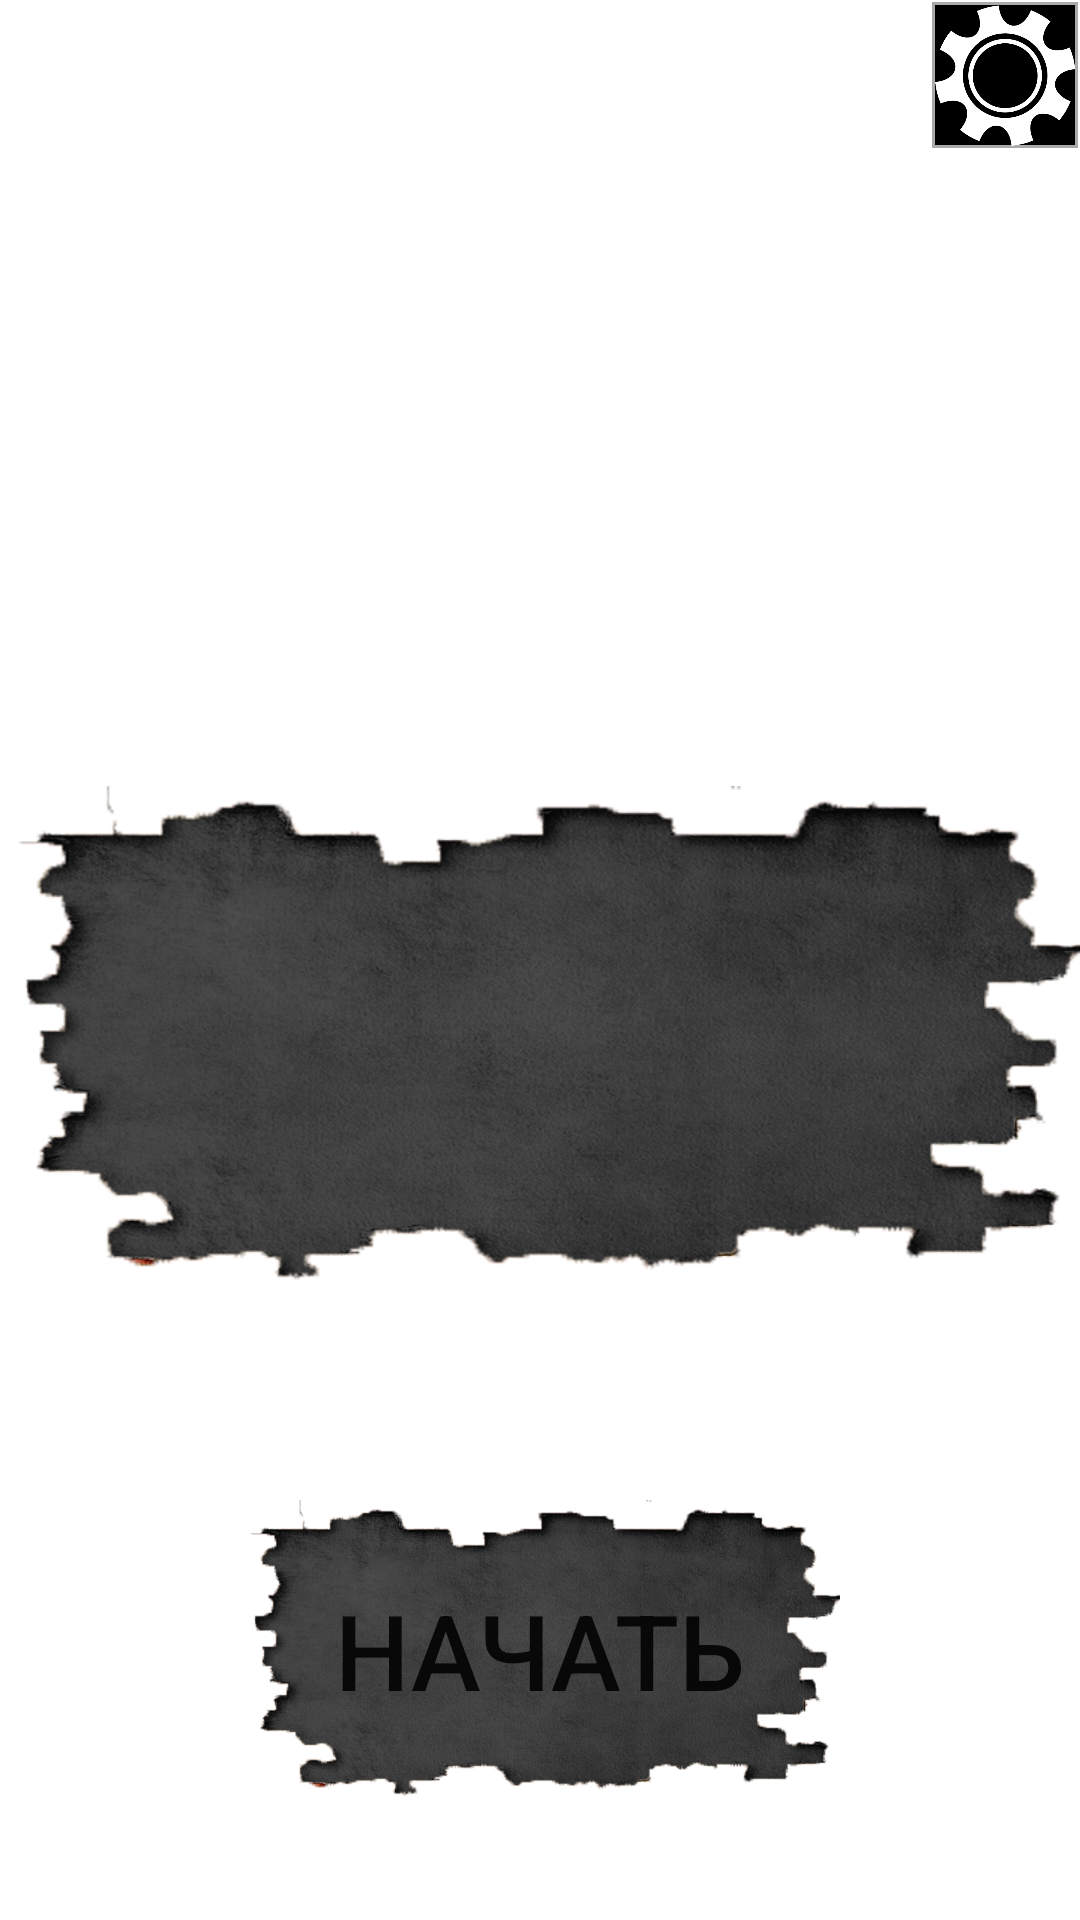

Where icons sit on this 1080px×1920px app screen, as BBox(x1, y1, x2, y2):
cog: BBox(932, 2, 1078, 148)
